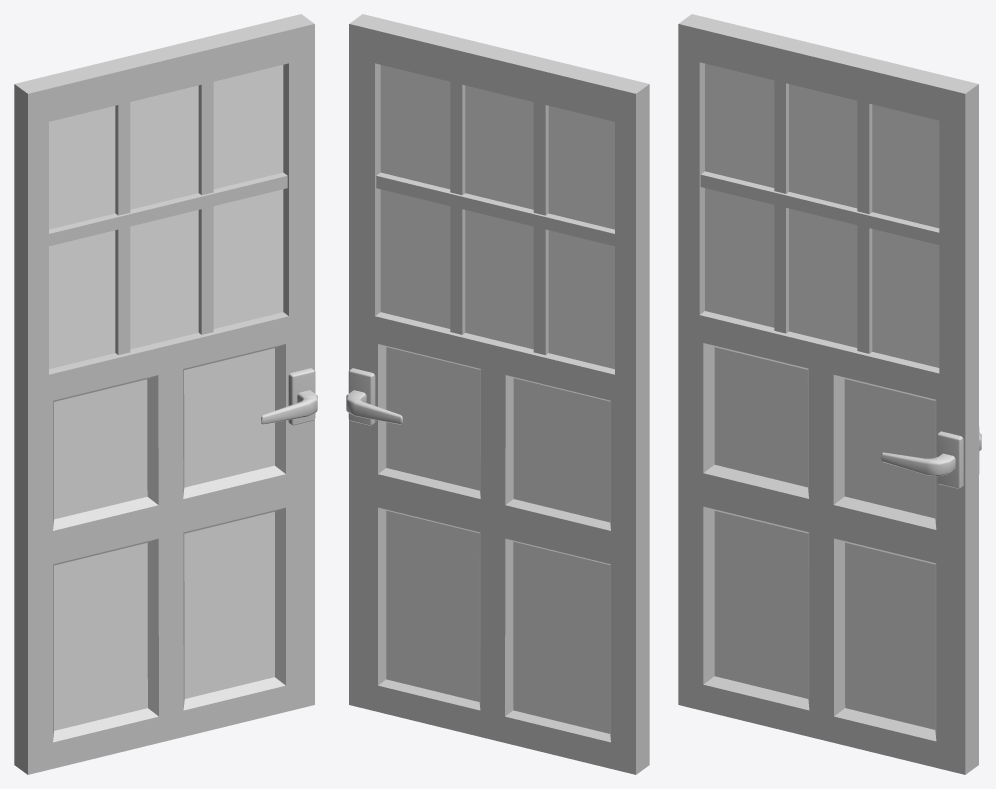
File: door_023.fbx
3 views of the same model, side by side, from view 1: azimuth 30°, elevation 25°; view 2: azimuth 150°, elevation 25°; view 3: azimuth 330°, elevation 25° (orthographic).
Visible parts, largest first — view 1: door_023; view 2: door_023; view 3: door_023.
Part boxes in pixels (x1,y1,x2,y2): door_023: (14,14,317,774); door_023: (346,14,649,774); door_023: (678,14,981,774).
Size of the model in its own units: 94.86 by 26.61 by 215.
